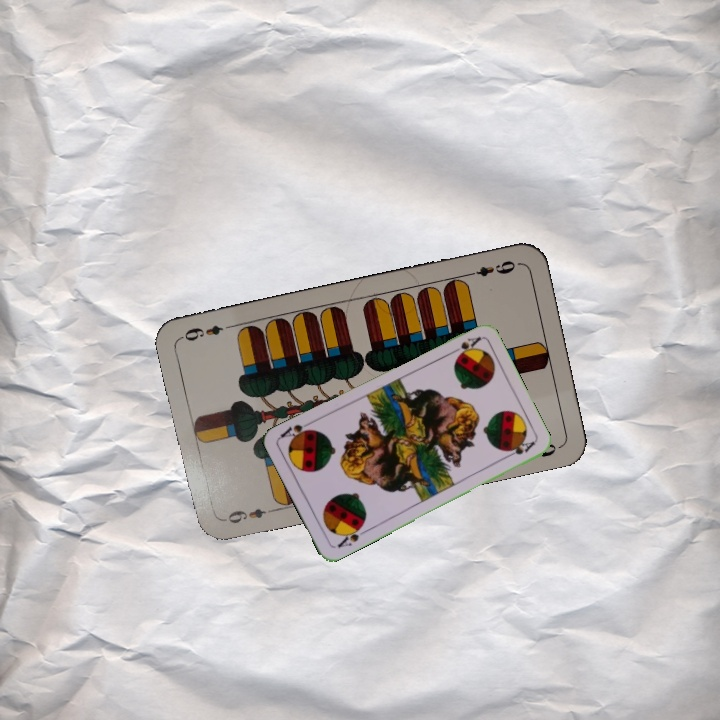E9: (462, 256, 521, 279), (219, 504, 278, 526)
SA: (333, 521, 369, 550), (445, 332, 483, 359)
